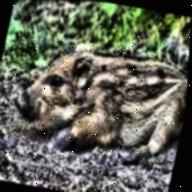boar: (3, 36, 190, 180)
